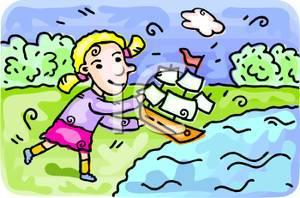boat: (136, 45, 213, 149)
person: (23, 26, 134, 180)
